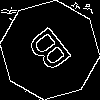B: (25, 25, 80, 82)
